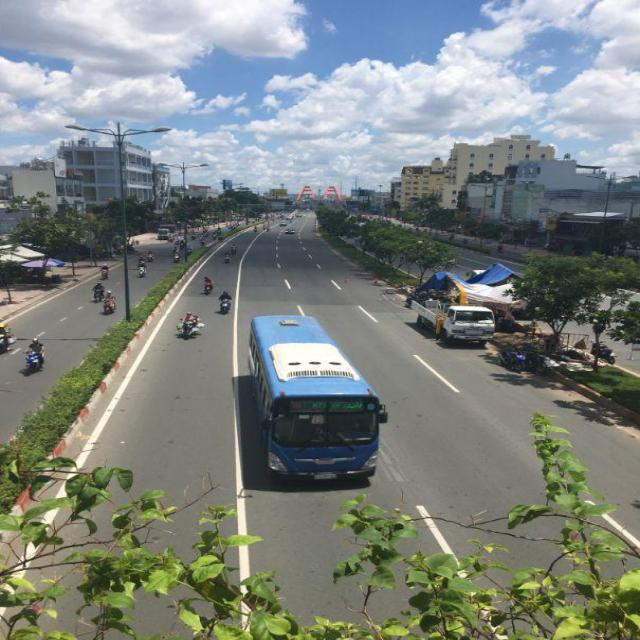bus: (247, 310, 383, 488)
car: (443, 304, 498, 346), (594, 345, 617, 365), (285, 228, 297, 236)
motorcycle: (25, 339, 45, 368), (177, 320, 202, 340), (220, 291, 232, 315), (93, 284, 104, 304), (203, 276, 212, 294), (99, 266, 108, 280), (137, 265, 145, 277)
